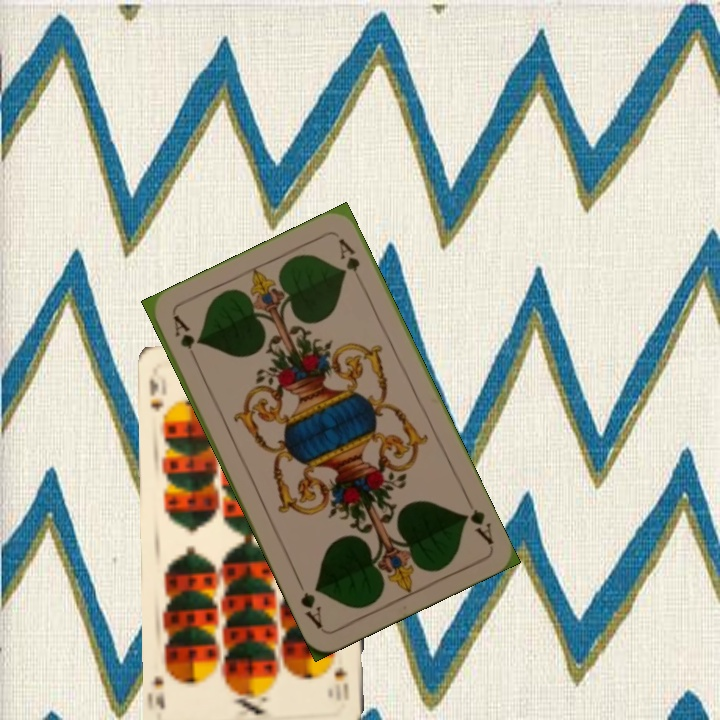GA: (169, 311, 202, 367), (458, 505, 496, 548)
S10: (145, 374, 170, 424), (333, 663, 352, 702)
